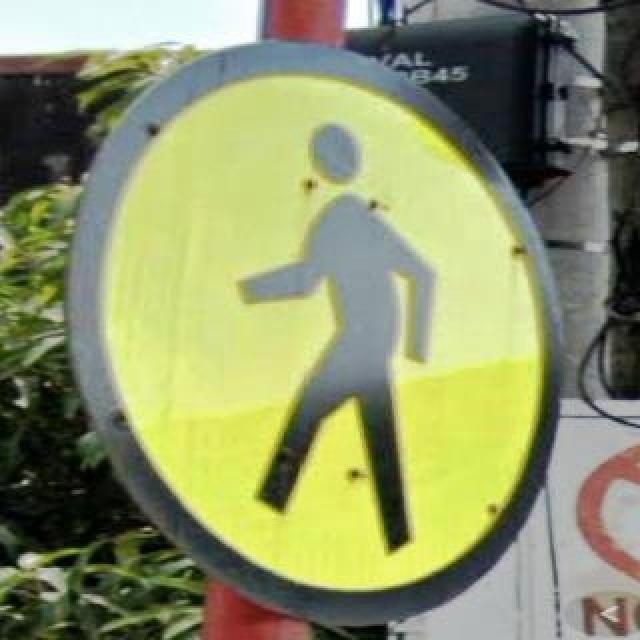pedestrian crossing: (64, 38, 554, 634)
